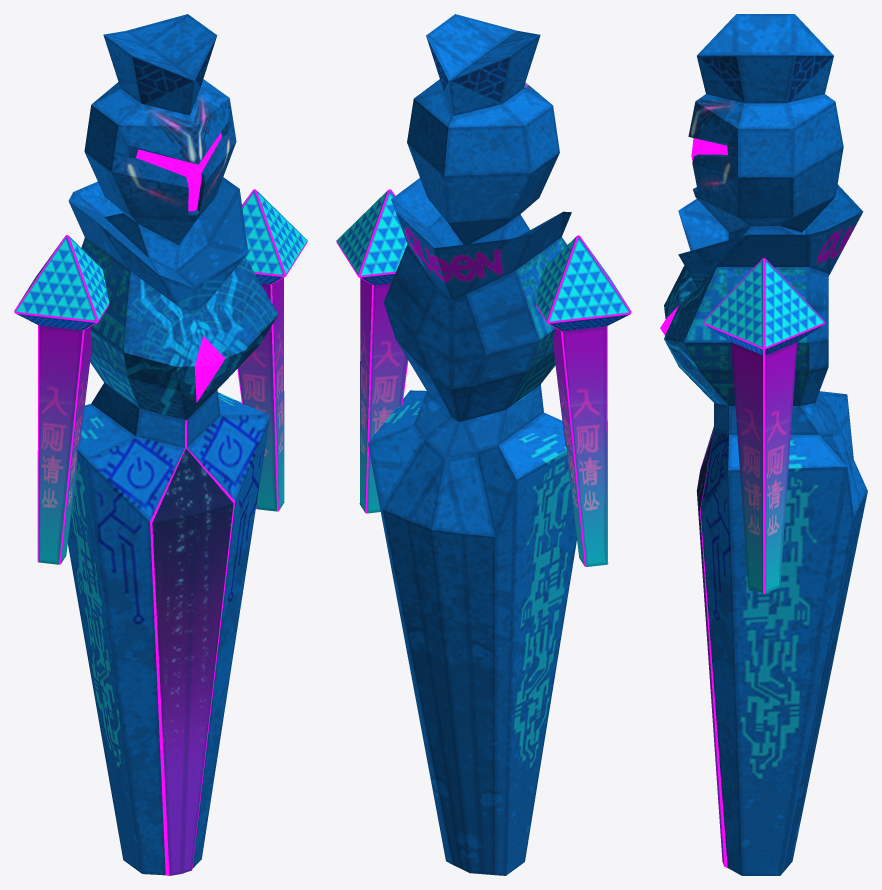
Rendered from Etherium_Queen.glb.
The picture shows the model from 3 angles, left to right: view 1: azimuth 30°, elevation 25°; view 2: azimuth 150°, elevation 25°; view 3: azimuth 270°, elevation 25°; orthographic projection.
Visible parts, largest first — view 1: Qween_Etheriumm; view 2: Qween_Etheriumm; view 3: Qween_Etheriumm.
Part boxes in pixels (x1,y1,x2,y2): Qween_Etheriumm: [14, 14, 307, 875]; Qween_Etheriumm: [336, 14, 631, 875]; Qween_Etheriumm: [660, 14, 867, 875].
Size of the model in its own units: 0.6806 by 1.83 by 0.4172.
2 materials, 1 textured.
